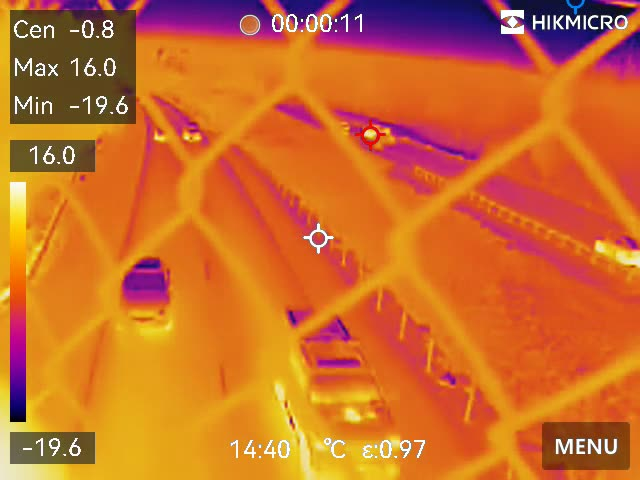smallCar: (123, 248, 173, 340)
vehicle: (270, 304, 403, 480), (591, 232, 640, 274), (182, 119, 205, 145)
